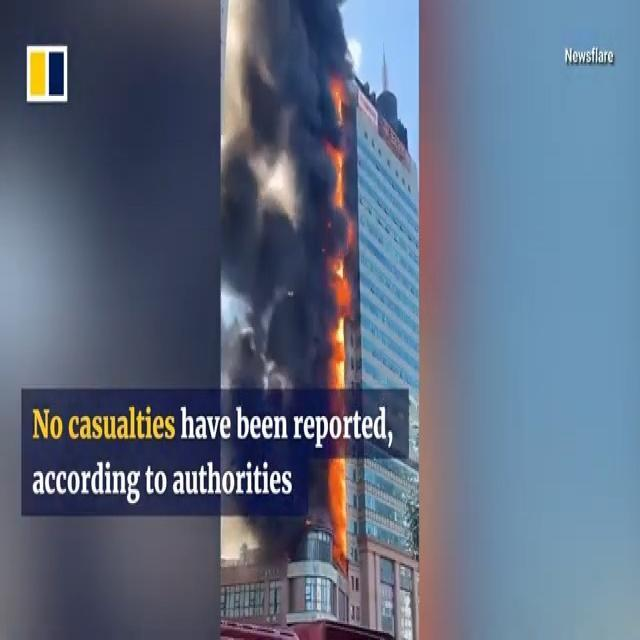Fire: (330, 72, 348, 384), (330, 460, 348, 548)
Smoke: (225, 0, 354, 391)
